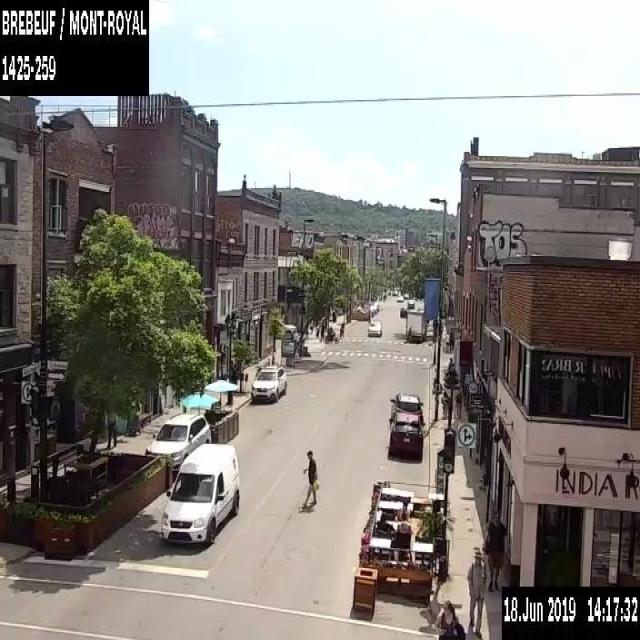pedestrian: (483, 507, 507, 594), (466, 551, 484, 639), (434, 597, 466, 639), (301, 446, 320, 511), (106, 411, 118, 449), (376, 511, 392, 533), (439, 389, 449, 420), (397, 512, 411, 533), (454, 387, 462, 417), (446, 325, 454, 352), (319, 321, 325, 339), (339, 320, 344, 336)
vehicle: (158, 443, 240, 544), (142, 411, 218, 482), (387, 412, 424, 457), (249, 363, 286, 404), (390, 389, 422, 425), (405, 311, 428, 343), (275, 316, 296, 342), (366, 318, 383, 338), (406, 296, 414, 308), (396, 290, 404, 301), (399, 306, 407, 317)
